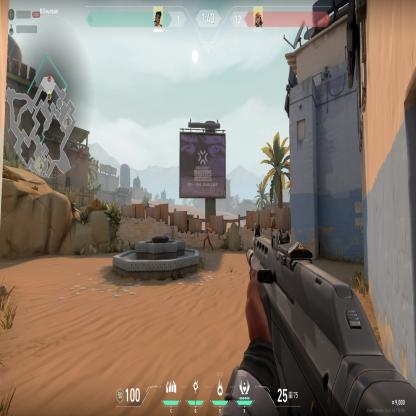enemy: (202, 222, 214, 251)
